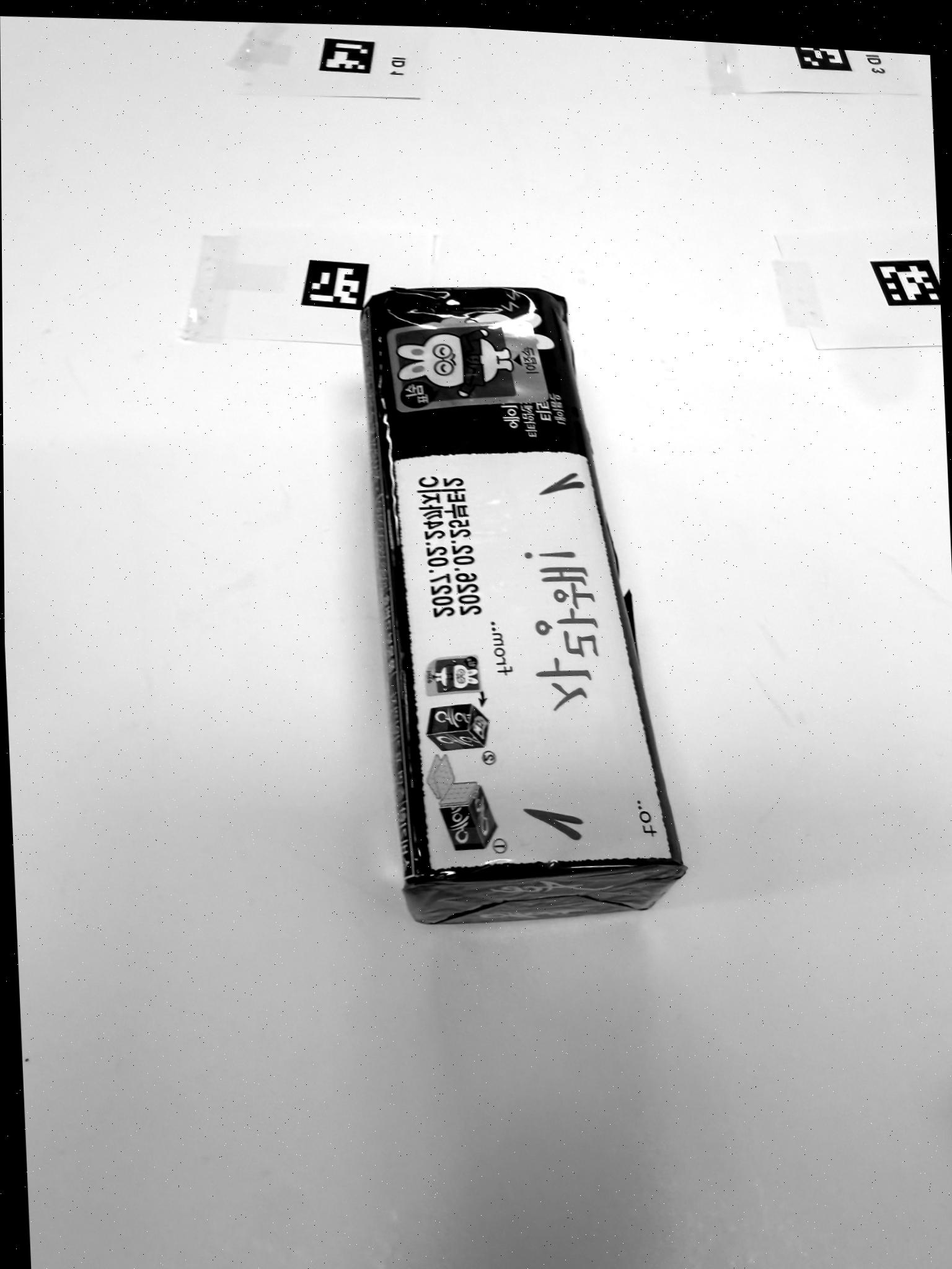cracker_ace: (362, 288, 685, 925)
